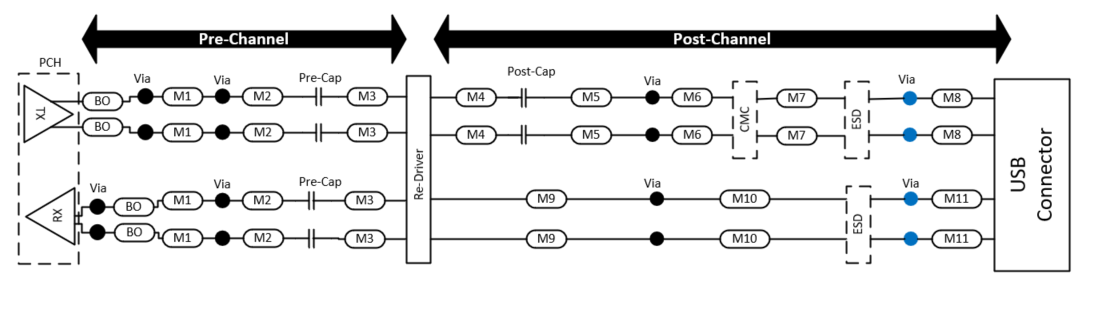capacitor: (309, 85, 328, 109), (305, 225, 320, 251), (305, 188, 319, 214), (518, 121, 532, 147), (311, 120, 326, 144), (519, 86, 531, 110)
circle: (645, 228, 669, 251), (902, 227, 923, 249), (642, 125, 664, 146), (211, 227, 232, 249), (135, 122, 157, 143), (134, 86, 155, 107), (898, 88, 920, 108), (87, 221, 107, 243), (901, 189, 924, 208), (214, 86, 234, 107), (214, 121, 234, 142), (647, 190, 669, 209), (86, 197, 108, 216), (643, 88, 662, 108), (213, 192, 235, 209), (903, 125, 921, 145)
dotted_rectangle: (13, 69, 84, 273), (834, 78, 879, 161), (722, 77, 765, 161), (838, 177, 876, 266)
oval: (929, 183, 985, 211), (715, 186, 775, 212), (522, 185, 570, 214), (927, 227, 983, 251), (524, 225, 572, 253), (718, 227, 774, 251), (569, 121, 617, 148), (931, 121, 977, 148), (568, 84, 613, 111), (772, 84, 818, 110), (343, 226, 388, 252), (242, 118, 285, 145), (345, 120, 392, 144), (161, 119, 206, 144), (451, 85, 499, 108), (669, 84, 715, 108), (162, 224, 204, 250), (344, 85, 391, 108), (453, 123, 500, 146), (670, 122, 715, 146), (776, 123, 821, 147), (239, 189, 285, 212), (242, 226, 285, 250), (932, 86, 973, 111), (113, 220, 155, 244), (343, 190, 388, 212), (162, 85, 205, 108), (81, 115, 125, 137), (160, 189, 204, 211), (242, 85, 283, 108), (113, 194, 154, 217), (82, 90, 125, 111)
rectangle: (990, 69, 1074, 279), (400, 72, 436, 272)
triangle: (20, 81, 78, 148), (24, 181, 78, 250)
